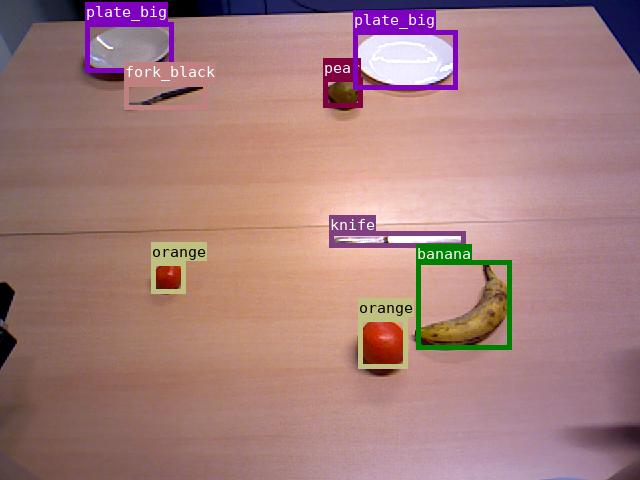banana: (416, 260, 511, 349)
fork_black: (124, 82, 207, 109)
knife: (329, 231, 465, 247)
orange: (358, 317, 407, 368), (151, 261, 185, 293)
pear: (323, 77, 362, 107)
plate_big: (353, 30, 457, 89), (85, 22, 173, 72)
